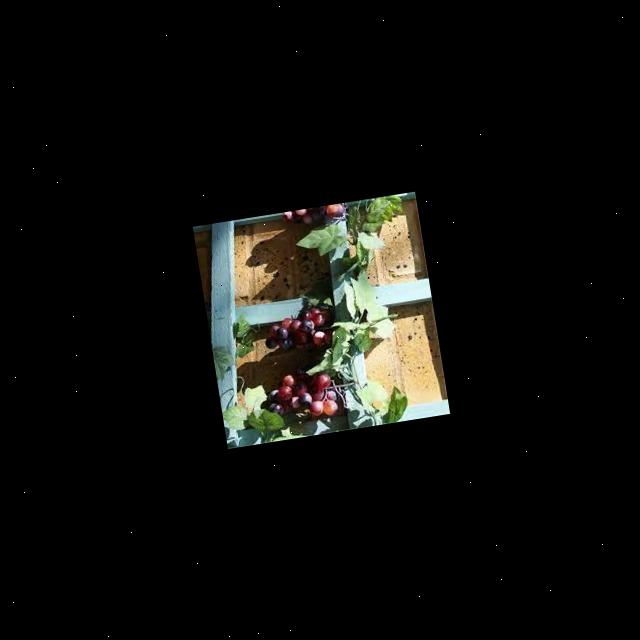grape: (264, 365, 340, 425), (260, 304, 337, 356), (280, 203, 350, 232)
